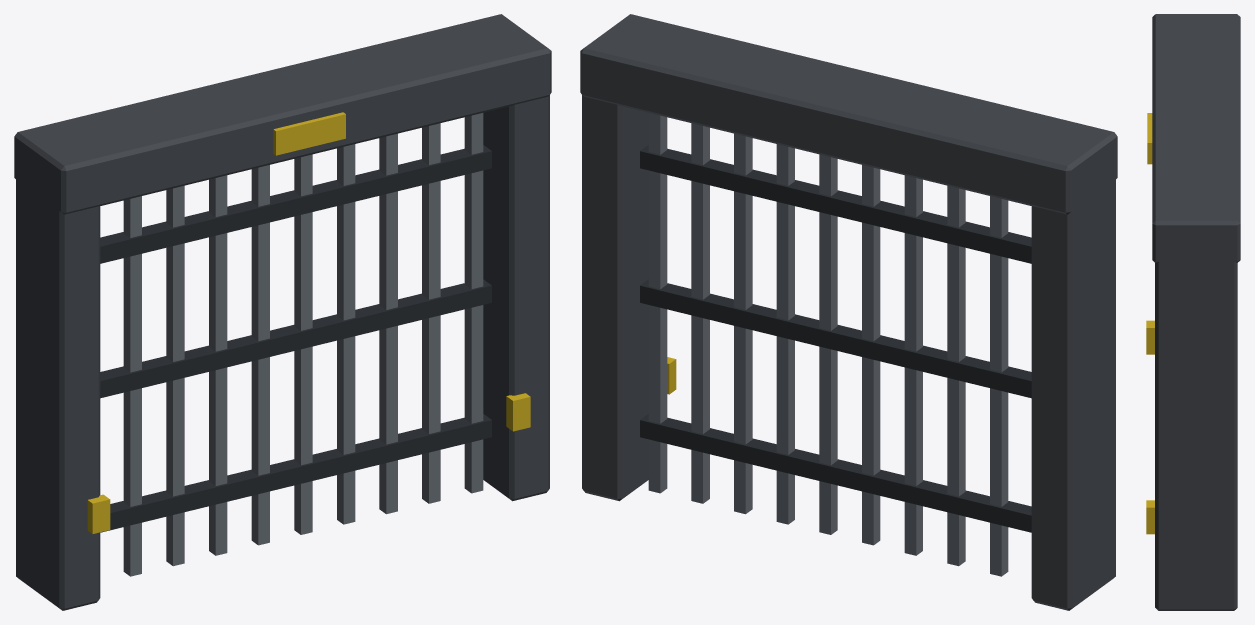
Rendered from env_gate.glb.
The picture shows the model from 3 angles, left to right: view 1: azimuth 30°, elevation 25°; view 2: azimuth 150°, elevation 25°; view 3: azimuth 270°, elevation 25°; orthographic projection. The views are drawn at different scales.
Visible parts, largest first — view 1: frame, door; view 2: frame, door; view 3: frame.
Boxes of the visible parts, bbox=[...] form: frame: bbox=[14, 14, 551, 610]; door: bbox=[100, 113, 491, 576]; frame: bbox=[580, 14, 1117, 610]; door: bbox=[640, 113, 1031, 576]; frame: bbox=[1146, 14, 1240, 610].
Size of the model in its own units: 8.4 by 7.3 by 1.6.
Materials: 1 (1 with a texture image).
